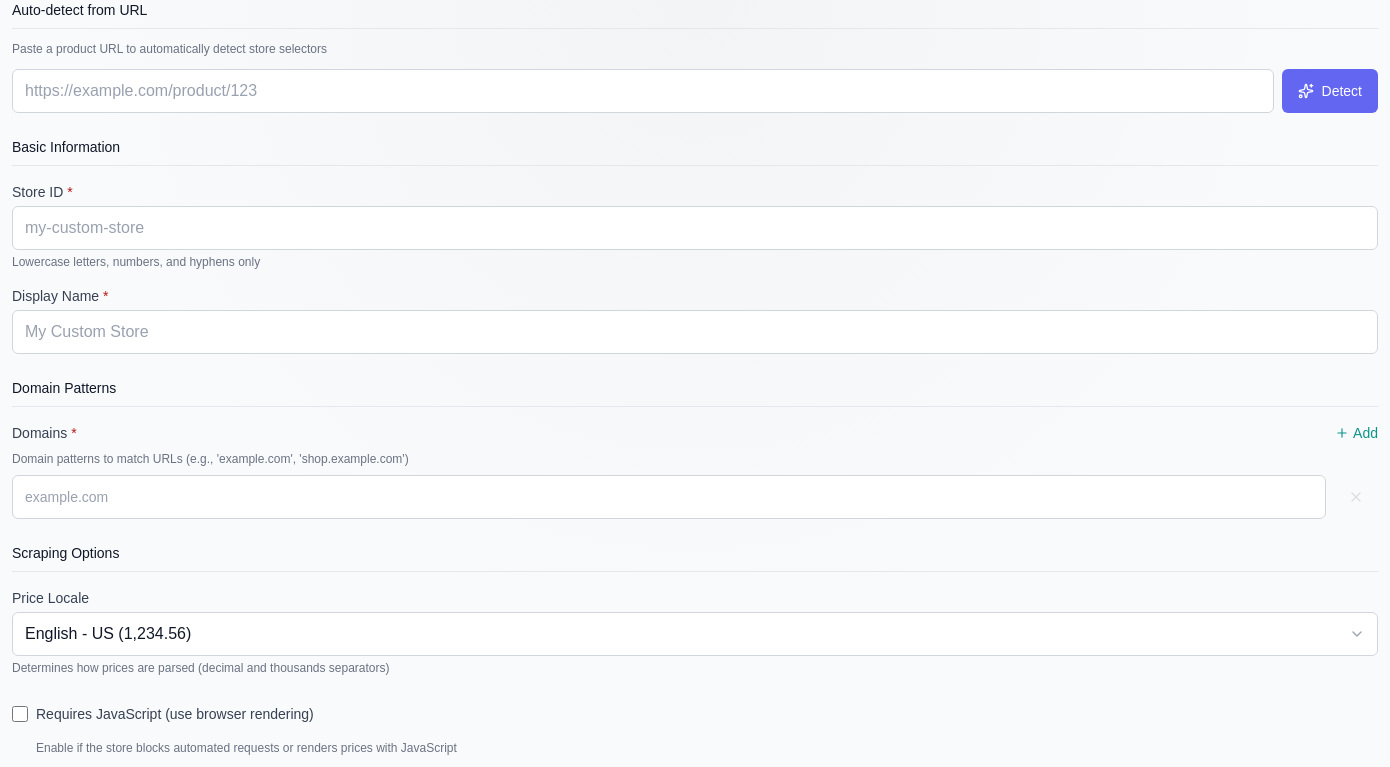
Scenario: StoreForm › Store ID validation › should show error for invalid Store ID characters
The width and height of the screenshot is (1390, 767).
Type "My Store" into the field labelled "Store ID *". click: point(695, 228)
box: [12, 206, 1378, 250]
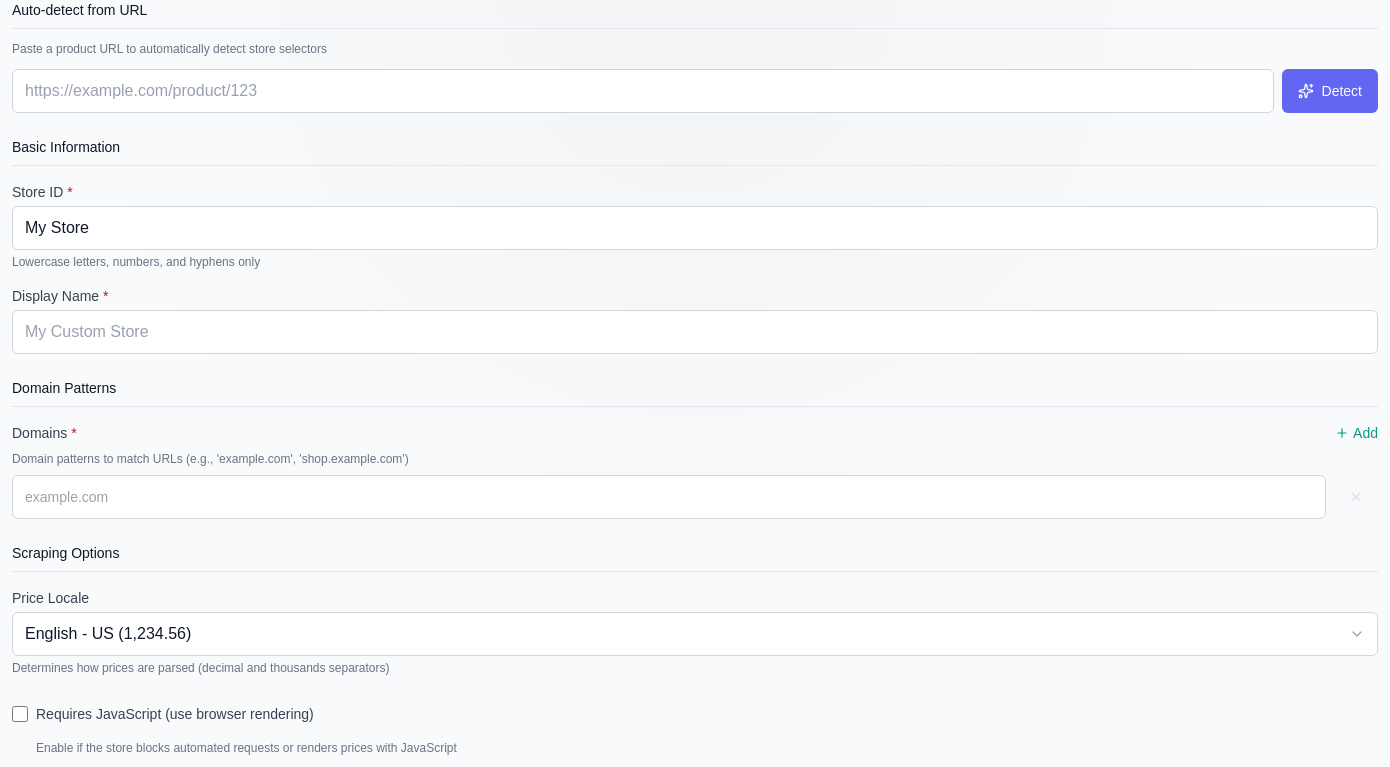
Type "My Store" into the field labelled "Display Name *". click: point(695, 332)
box: [12, 310, 1378, 354]
(page scrolled)
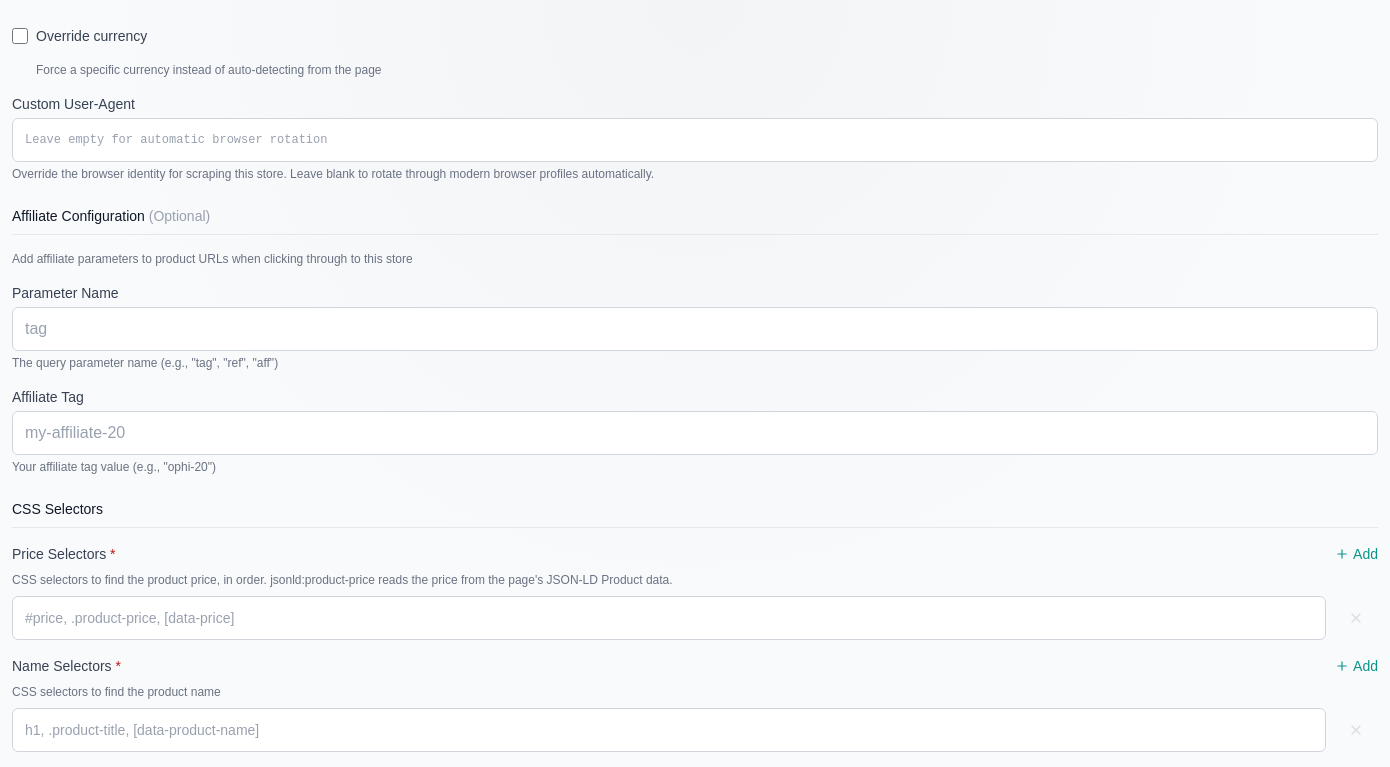
Submit the form named "Create Store"
(page scrolled)
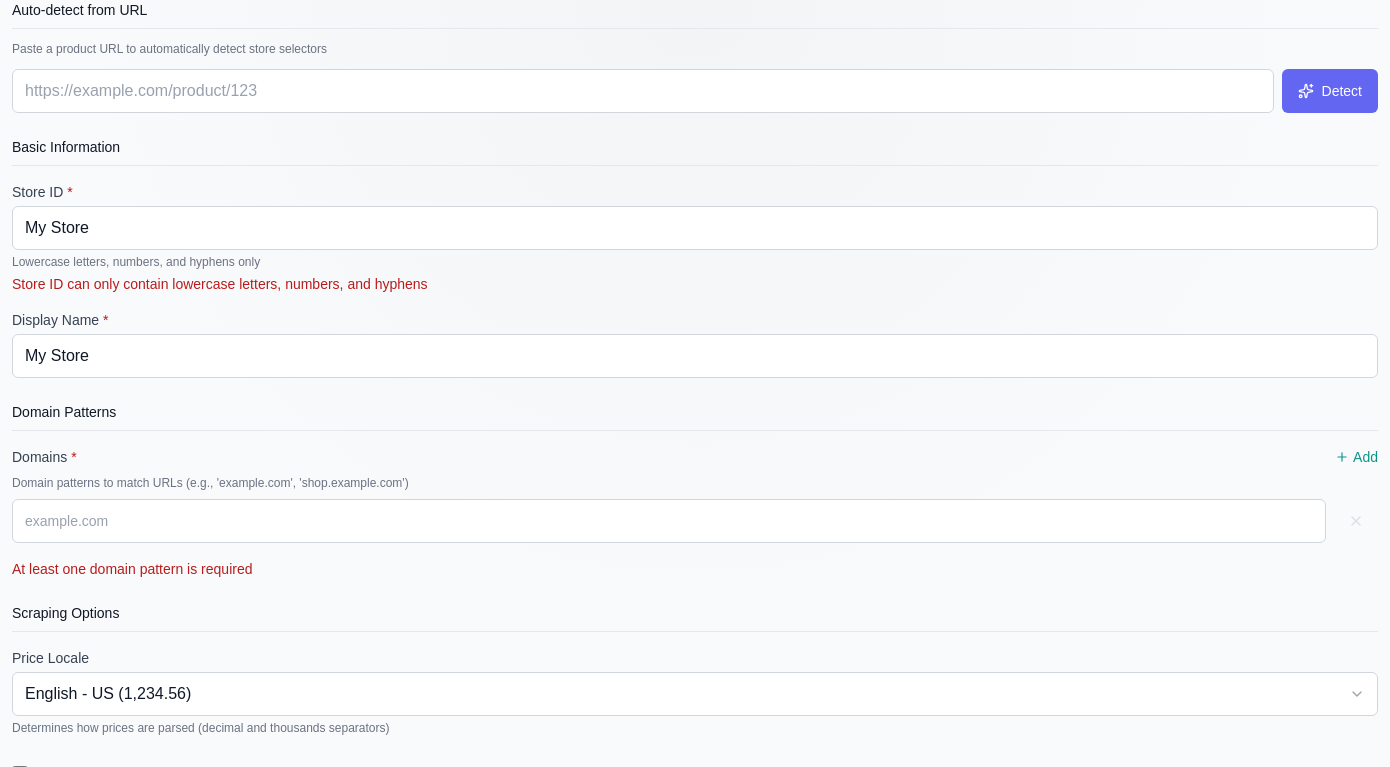
Result: the text "Store ID can only contain lowercase letters, numbers, and hyphens" is shown at [12, 276, 428, 292]
